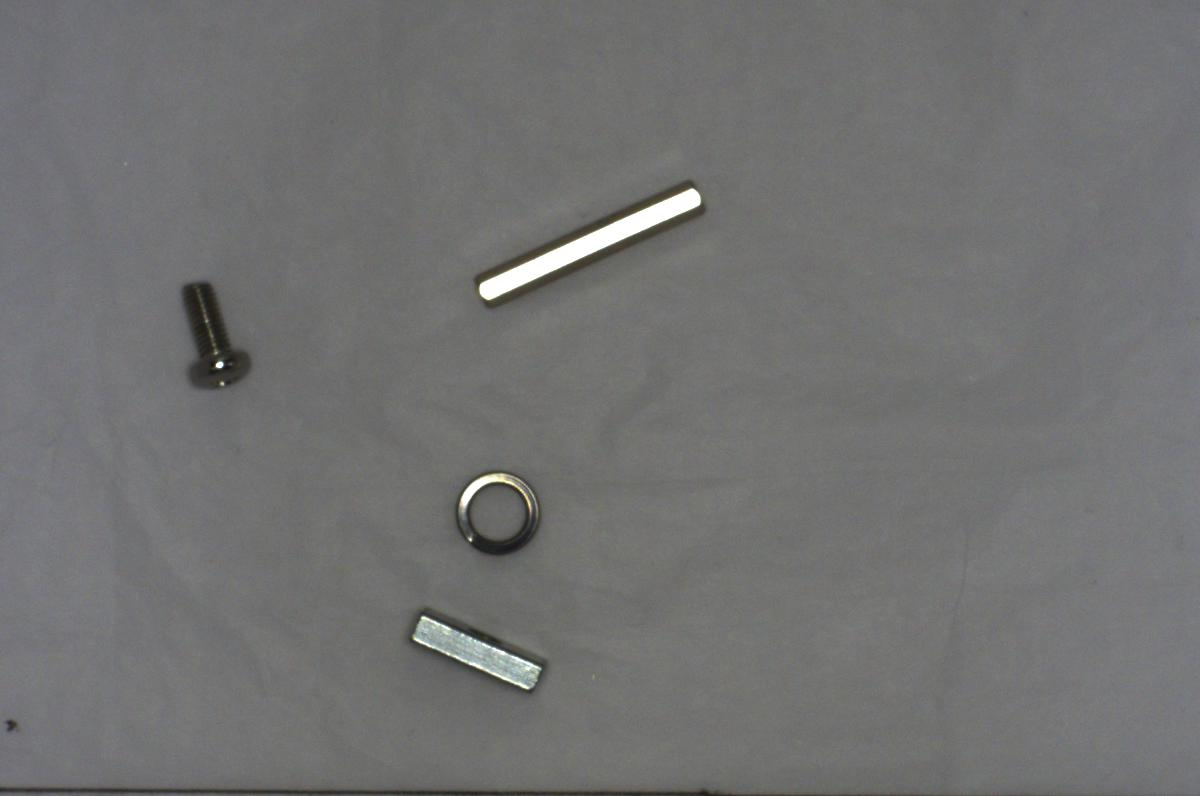Double hexagonal column: (466, 178, 717, 306)
Rectangular nut: (401, 603, 550, 702)
Round head screw: (170, 268, 260, 402)
Spring washer: (442, 466, 547, 555)
